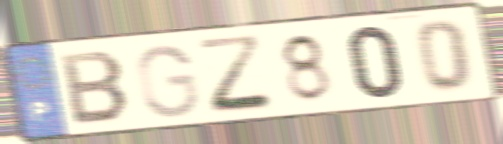0: (412, 17, 478, 95), (345, 23, 405, 101)
8: (278, 32, 335, 106)
B: (57, 49, 134, 128)
G: (134, 42, 202, 120)
Z: (194, 31, 280, 117)
